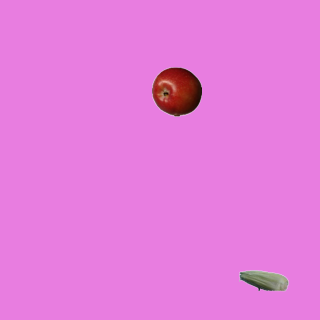Apple Braeburn: (151, 66, 201, 116)
Corn Husk: (238, 255, 288, 305)
